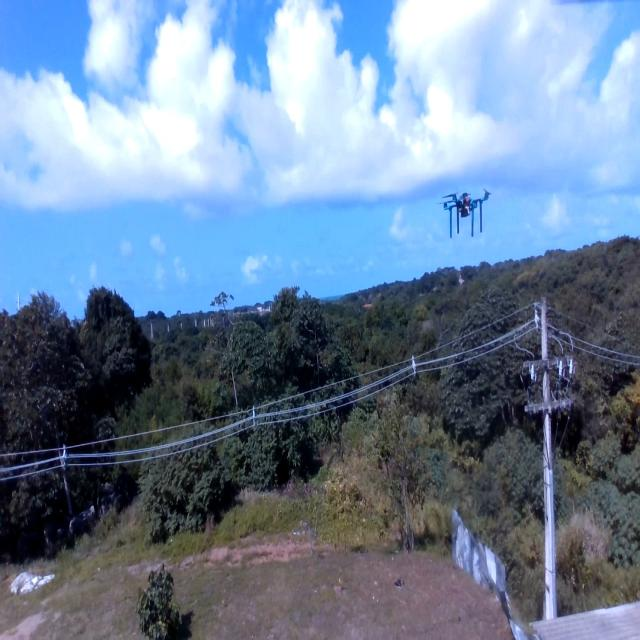-uav-: (433, 172, 491, 244)
